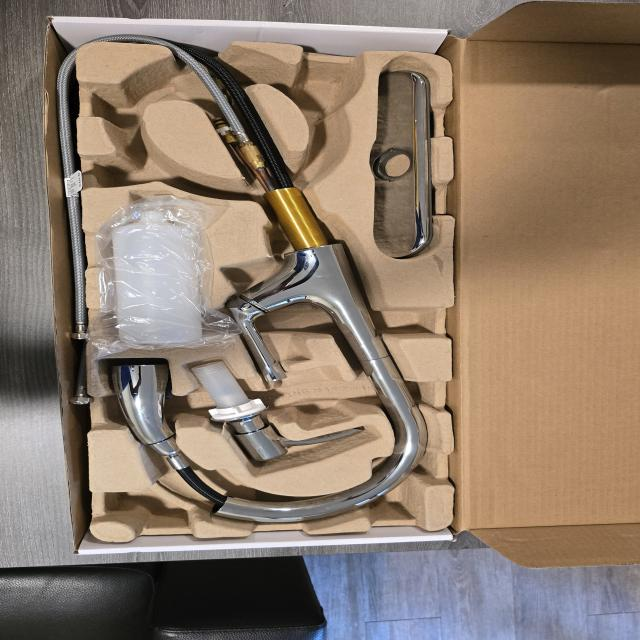1: (109, 41, 428, 525)
2: (186, 360, 368, 464)
3: (107, 196, 201, 344)
4: (368, 68, 433, 258)
5m: (290, 68, 365, 118)
6m: (94, 62, 177, 135)
7m: (89, 148, 225, 194)
